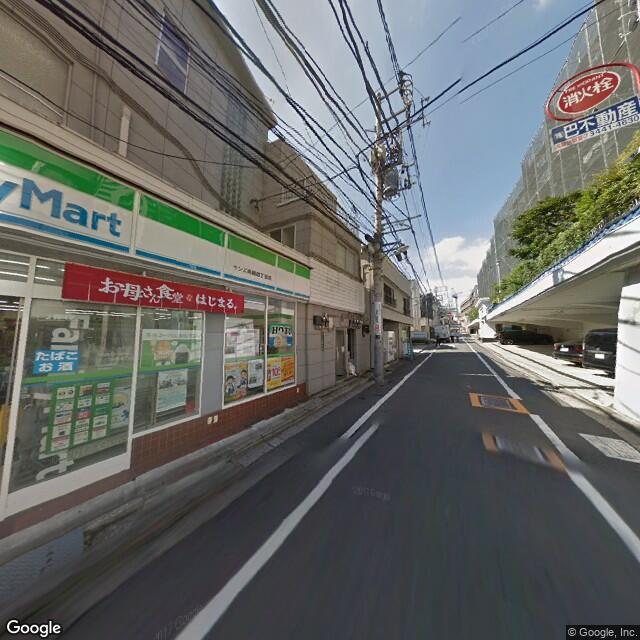family_mart: (2, 127, 312, 302)
